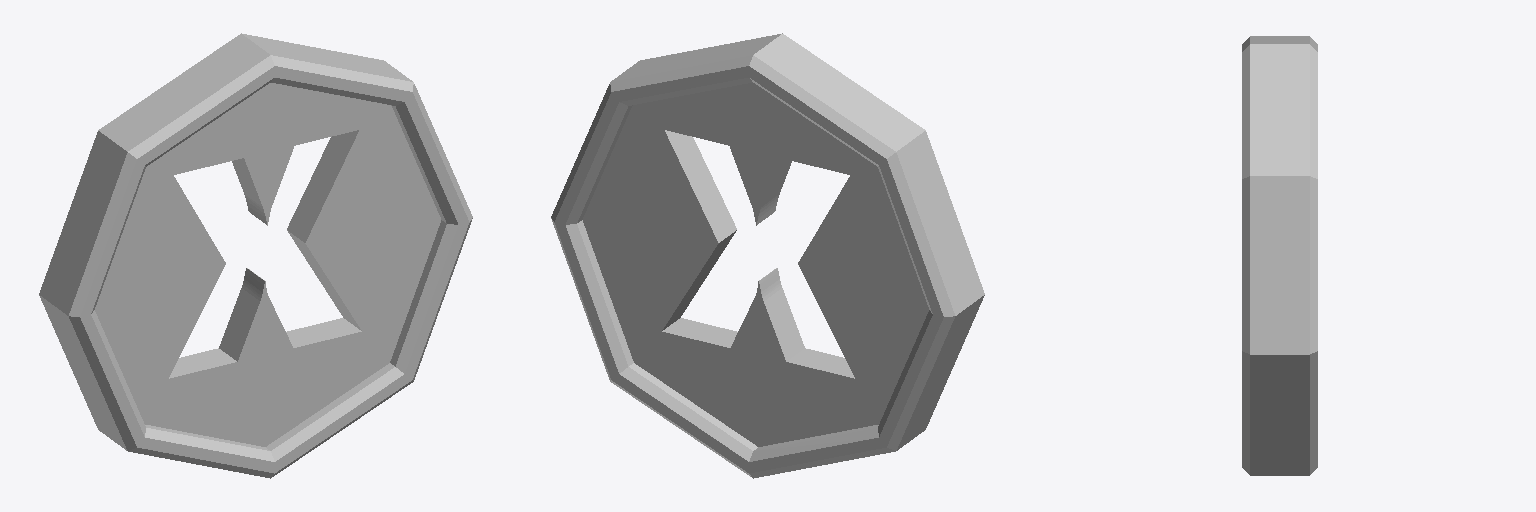
The model's file is Coin.obj.
3 views of the same model, side by side, from view 1: azimuth 30°, elevation 25°; view 2: azimuth 150°, elevation 25°; view 3: azimuth 270°, elevation 25° (orthographic).
Parts seen in each view (by area): view 1: Circle; view 2: Circle; view 3: Circle.
Part boxes in pixels (x1,y1,x2,y2): Circle: (39,33,472,478); Circle: (551,33,984,478); Circle: (1242,36,1317,475).
Bounding box in the file's own units: 2 × 2 × 0.3228.